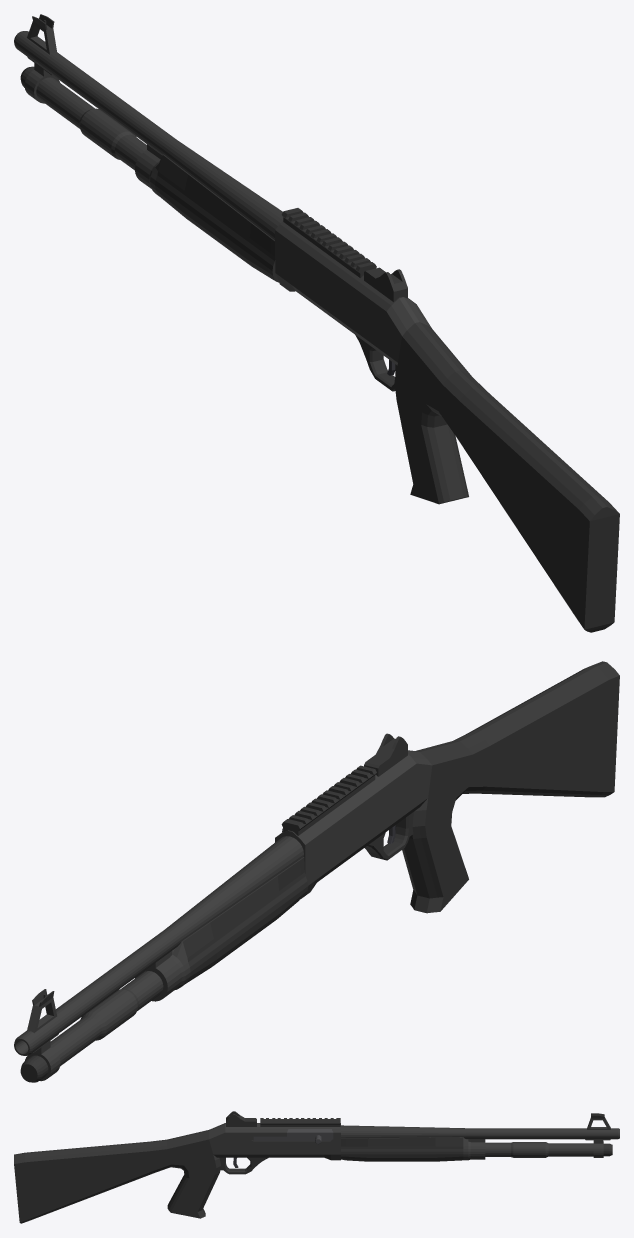
File: xm1014-view.glb
The picture shows the model from 3 angles, top to bottom: view 1: azimuth 30°, elevation 25°; view 2: azimuth 150°, elevation 25°; view 3: azimuth 270°, elevation 25°; orthographic projection. The views are drawn at different scales.
Visible parts, largest first — view 1: Cabo, Cano; view 2: Cabo, Cano; view 3: Cabo, Cano, Camara.
Part boxes in pixels (x1,y1,x2,y2): Cabo: [20, 14, 619, 632]; Cano: [14, 21, 431, 365]; Cabo: [20, 661, 619, 1082]; Cano: [14, 750, 432, 1081]; Cabo: [14, 1111, 612, 1223]; Cano: [209, 1117, 619, 1160]; Camara: [253, 1129, 333, 1144].
Size of the model in its own units: 0.0431 by 0.1906 by 0.96.
4 materials, 4 textured.
